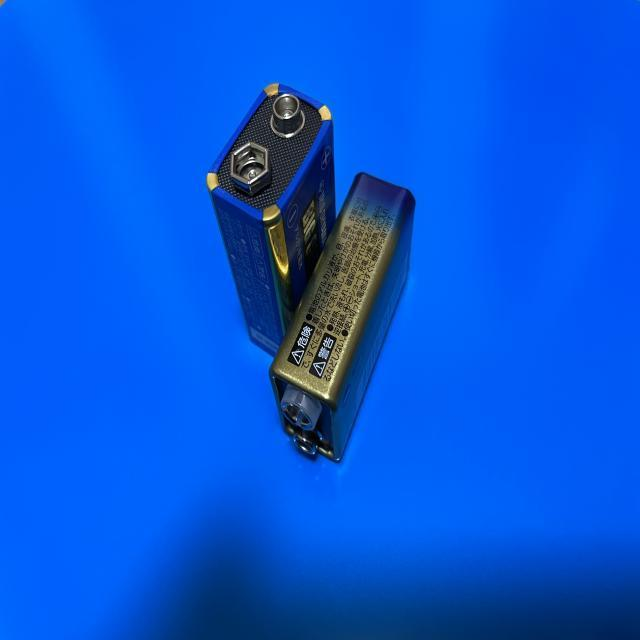9V: (269, 172, 417, 464), (206, 82, 337, 363)
